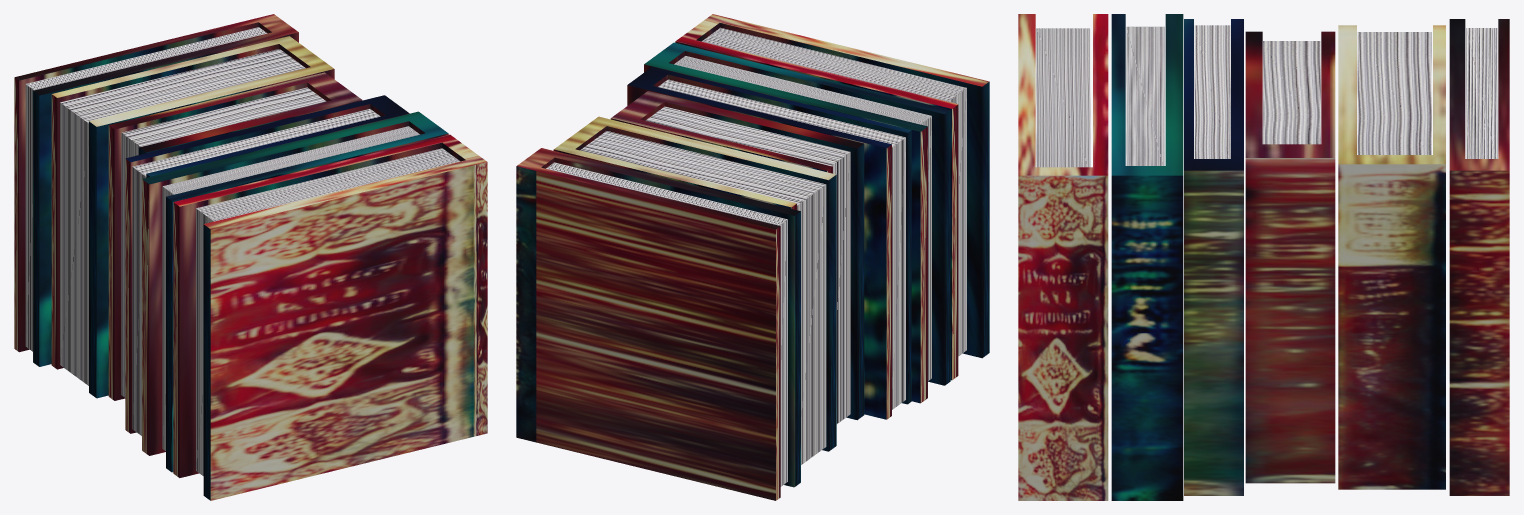
Rendered from libros3.obj.
3 views of the same model, side by side, from view 1: azimuth 30°, elevation 25°; view 2: azimuth 150°, elevation 25°; view 3: azimuth 270°, elevation 25° (orthographic). The views are drawn at different scales.
Visible parts, largest first — view 1: pCube1, pCube2, pCube11, pCube6, pCube5, pCube4, pCube7, pCube3, pCube9, pCube10, pCube12, pCube8; view 2: pCube6, pCube2, pCube1, pCube3, pCube11, pCube4, pCube5, pCube10, pCube7, pCube9, pCube12, pCube8; view 3: pCube5, pCube1, pCube4, pCube2, pCube6, pCube3, pCube11, pCube7, pCube10, pCube8, pCube9, pCube12.
Part boxes in pixels (x1,y1,x2,y2): pCube1: (173,134,487,500); pCube2: (142,111,448,472); pCube11: (60,49,305,385); pCube6: (14,14,298,366); pCube5: (51,36,334,398); pCube4: (108,72,362,400); pCube7: (196,148,459,475); pCube3: (125,95,409,433); pCube9: (132,109,380,435); pCube10: (121,87,326,397); pCube12: (25,27,267,351); pCube8: (162,126,419,450); pCube6: (516,148,800,500); pCube2: (644,42,950,403); pCube1: (675,14,989,380); pCube3: (627,66,911,419); pCube11: (580,131,826,464); pCube4: (610,91,864,420); pCube5: (553,116,836,451); pCube10: (645,106,850,423); pCube7: (702,27,966,356); pCube9: (658,79,905,409); pCube12: (546,162,787,486); pCube8: (674,56,931,380); pCube5: (1338,25,1445,489); pCube1: (1018,14,1108,500); pCube4: (1245,31,1335,483); pCube2: (1111,14,1183,500); pCube6: (1449,19,1509,495); pCube3: (1184,19,1243,495); pCube11: (1357,32,1431,154); pCube7: (1036,28,1090,167); pCube10: (1263,41,1320,144); pCube8: (1126,26,1164,165); pCube9: (1194,25,1230,158); pCube12: (1466,28,1497,158).
Size of the model in its own units: 0.32 by 0.3 by 0.4105.
2 materials, 2 textured.
